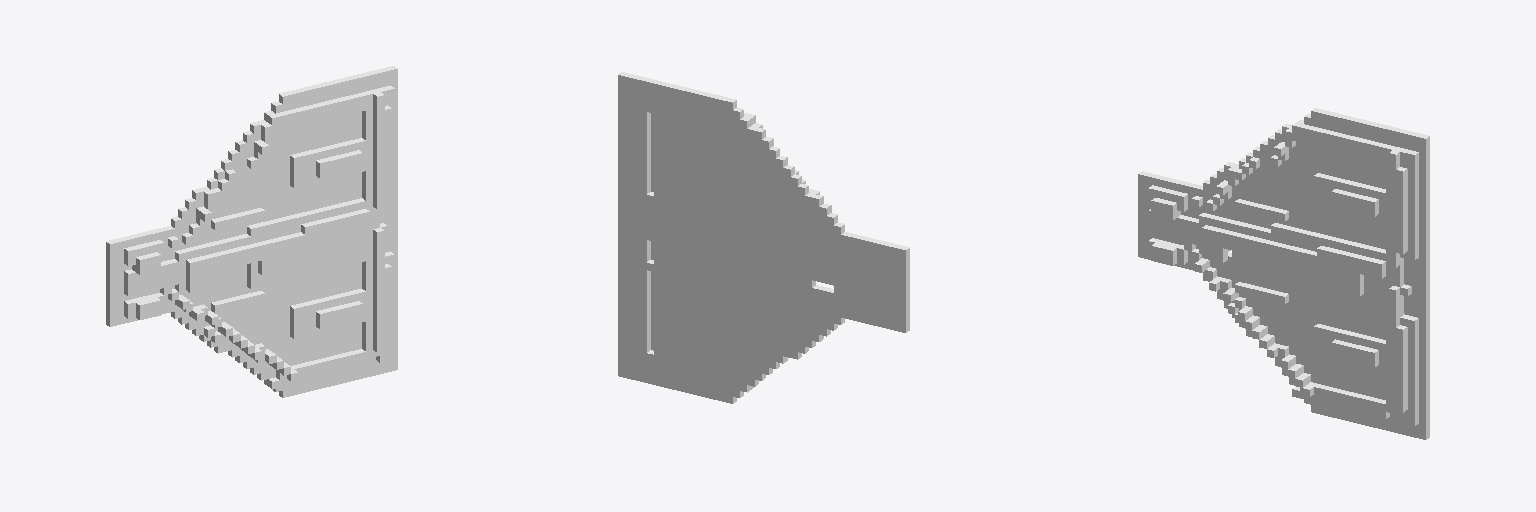
The model's file is Enemy.obj.
3 views of the same model, side by side, from view 1: azimuth 30°, elevation 25°; view 2: azimuth 150°, elevation 25°; view 3: azimuth 330°, elevation 25° (orthographic).
Visible parts, largest first — view 1: Enemy; view 2: Enemy; view 3: Enemy.
Part boxes in pixels (left/top/right/bottom): Enemy: left=106, top=66, right=397, bottom=397; Enemy: left=618, top=72, right=909, bottom=403; Enemy: left=1138, top=108, right=1429, bottom=439.
Size of the model in its own units: 10 by 10 by 0.75.